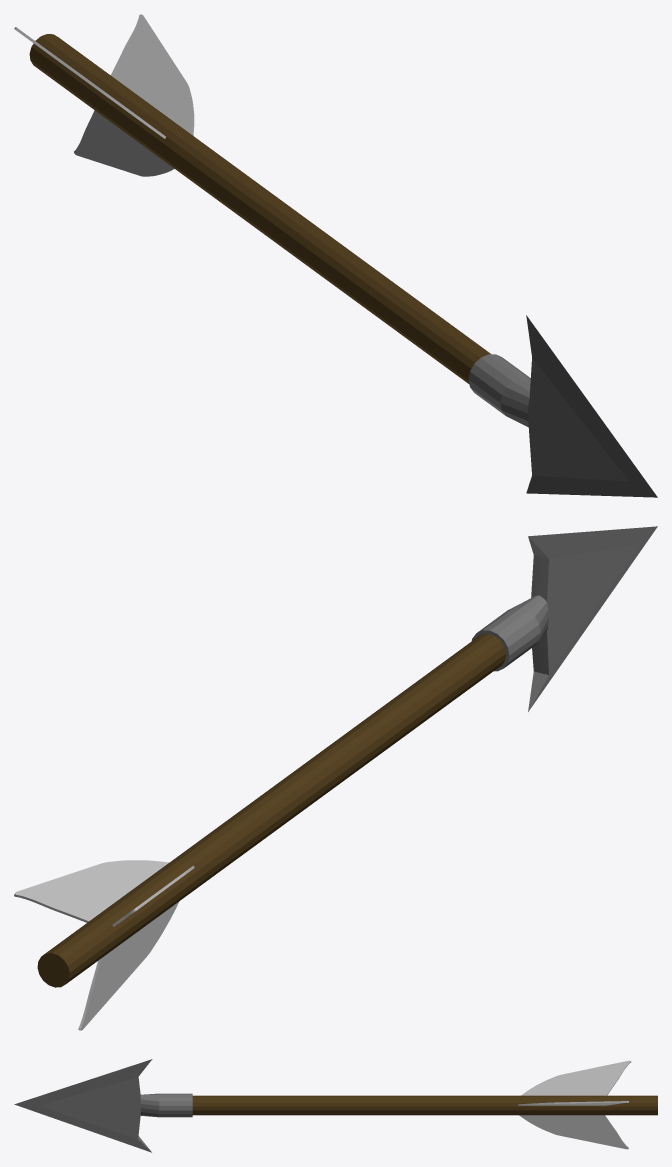
Rendered from Arrow.fbx.
3 views of the same model, one above another, from view 1: azimuth 30°, elevation 25°; view 2: azimuth 150°, elevation 25°; view 3: azimuth 270°, elevation 25° (orthographic). The views are drawn at different scales.
Parts seen in each view (by area): view 1: Shaft; view 2: Shaft; view 3: Shaft.
Boxes of the visible parts, x1,y1,x2,y2 form: Shaft: (14, 14, 657, 497); Shaft: (14, 526, 657, 1030); Shaft: (14, 1059, 657, 1152).
Size of the model in its own units: 31.06 by 41.74 by 259.
